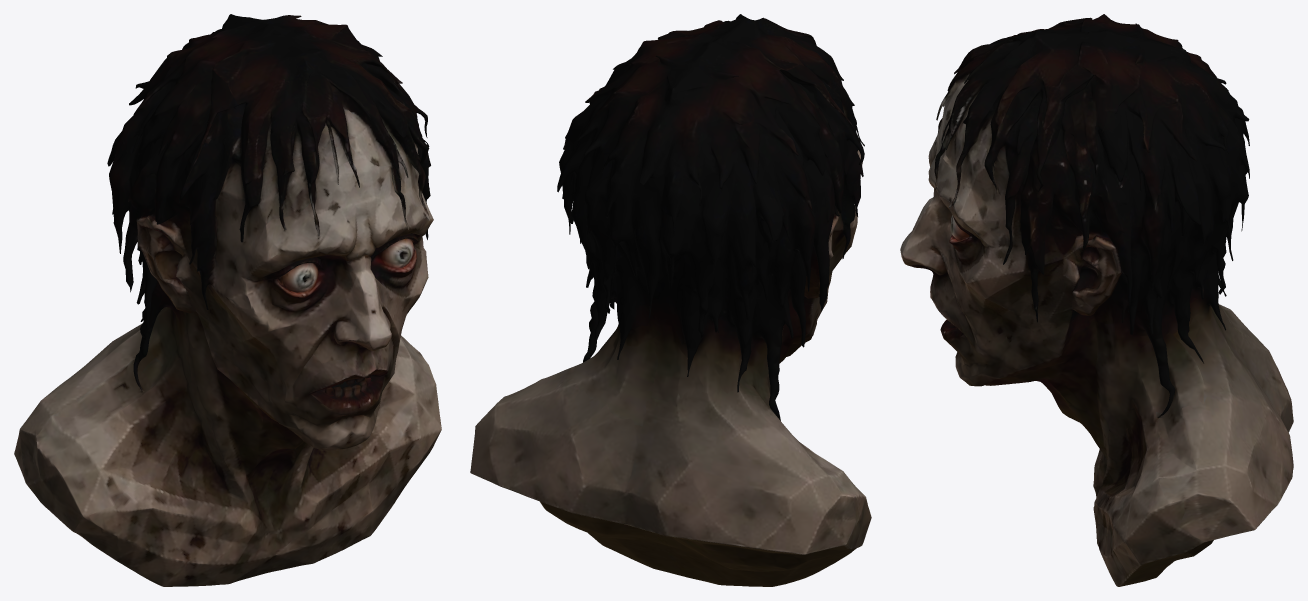
The model's file is peeker.glb.
3 renders of one model, left to right at view 1: azimuth 30°, elevation 25°; view 2: azimuth 150°, elevation 25°; view 3: azimuth 270°, elevation 25°, orthographic. The views are drawn at different scales.
Visible parts, largest first — view 1: tripo_node_bea25efa-e397-490f-abfc-b94ae6793810; view 2: tripo_node_bea25efa-e397-490f-abfc-b94ae6793810; view 3: tripo_node_bea25efa-e397-490f-abfc-b94ae6793810.
Part boxes in pixels (bbox=[...]): tripo_node_bea25efa-e397-490f-abfc-b94ae6793810: bbox=[14, 14, 441, 586]; tripo_node_bea25efa-e397-490f-abfc-b94ae6793810: bbox=[470, 14, 871, 586]; tripo_node_bea25efa-e397-490f-abfc-b94ae6793810: bbox=[900, 14, 1293, 586].
Size of the model in its own units: 0.7377 by 1 by 0.6896.
Materials: 1 (1 with a texture image).
